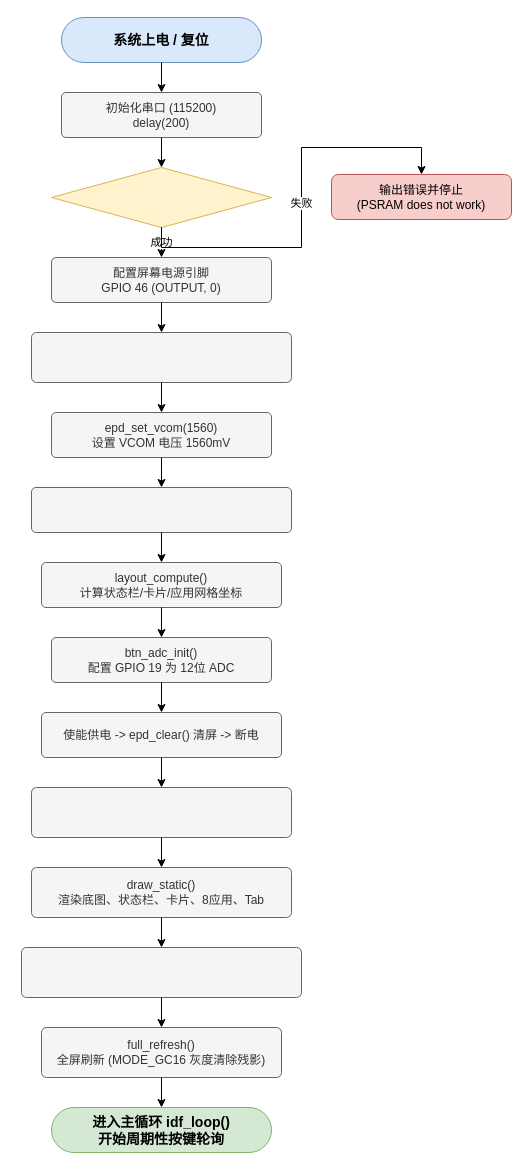
This 529x1170 diagram has some shape labels left out. Here are the shapes that lost their labels. From the top down, the centre of each, then its label:
the point at 161,197: 检查/初始化 PSRAM (psramInit)
the point at 161,357: epd_init(&DEMO_BOARD, &ED060KD1, EPD_LUT_64K) 初始化板卡与屏幕参数
the point at 161,509: epd_set_rotation(EPD_ROT_INVERTED_PORTRAIT) 设置竖屏倒置 (1072x1448)
the point at 161,812: 在 PSRAM 中申请静态显存 g_static_fb (heap_caps_malloc SPIRAM)
the point at 161,972: prepare_home() memcpy 底图到前台 fb 并叠加初始焦点高亮框
